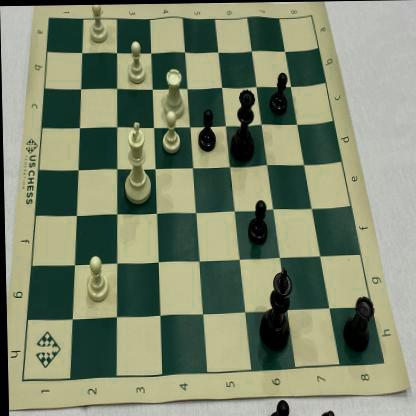black-king: (255, 264, 293, 356)
black-pawn: (245, 197, 270, 247), (196, 106, 218, 154), (268, 69, 288, 116)
black-queen: (228, 84, 257, 164)
black-rook: (339, 295, 375, 356)
white-king: (119, 119, 154, 208)
white-pawn: (82, 255, 110, 306), (158, 107, 182, 156), (124, 38, 148, 86), (86, 3, 110, 46)
white-rook: (160, 65, 186, 122)
